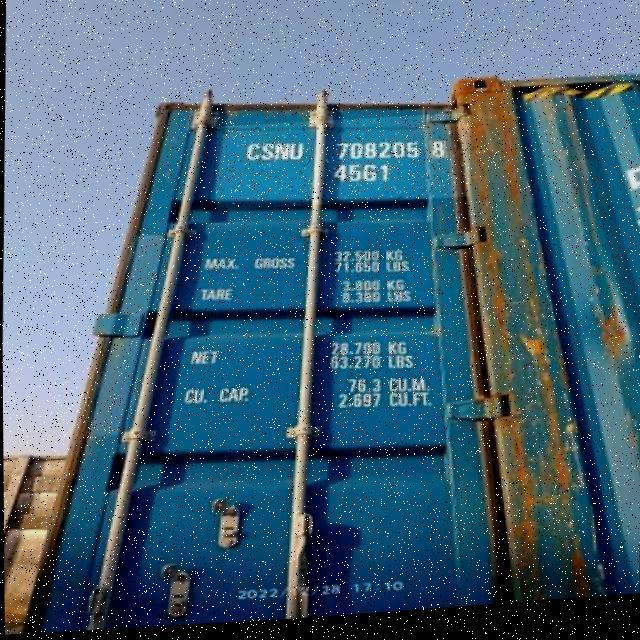container_number_h: (214, 115, 471, 218)
